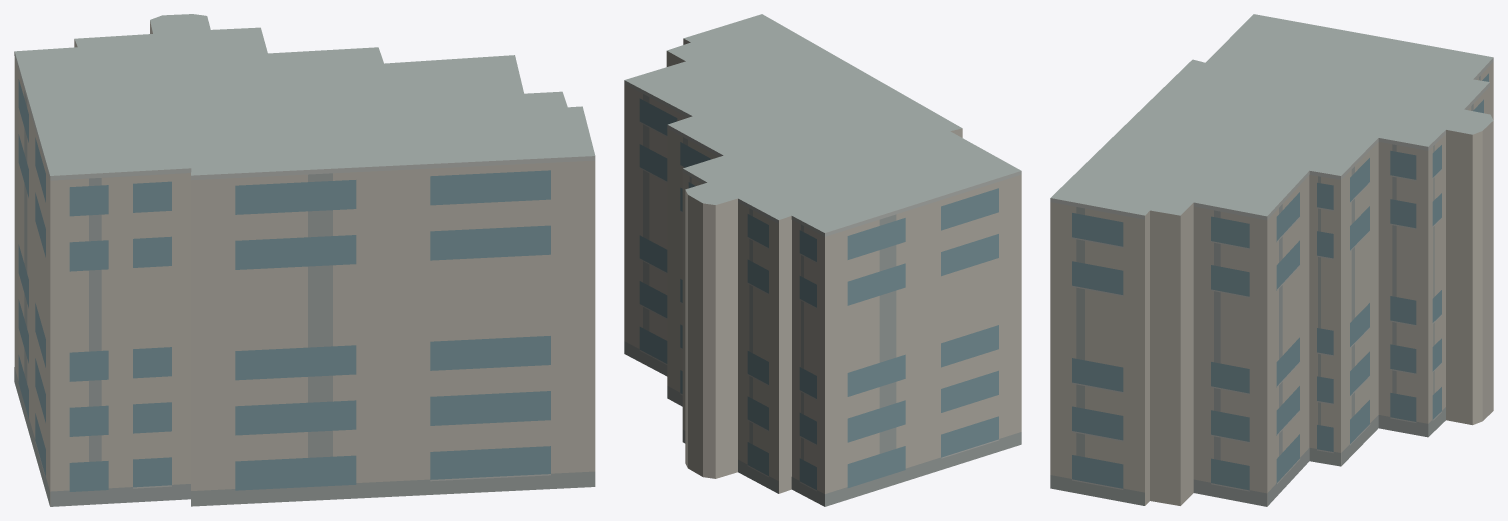
File: survey-upis-32534719.glb
The picture shows the model from 3 angles, left to right: view 1: azimuth 30°, elevation 25°; view 2: azimuth 150°, elevation 25°; view 3: azimuth 270°, elevation 25°; orthographic projection. The views are drawn at different scales.
Visible parts, largest first — view 1: survey-upis-32534719.tmp; view 2: survey-upis-32534719.tmp; view 3: survey-upis-32534719.tmp.
Part boxes in pixels (bbox=[...]): survey-upis-32534719.tmp: bbox=[14, 14, 595, 506]; survey-upis-32534719.tmp: bbox=[624, 14, 1021, 506]; survey-upis-32534719.tmp: bbox=[1050, 14, 1493, 506].
Size of the model in its own units: 26.16 by 17.5 by 24.21.
